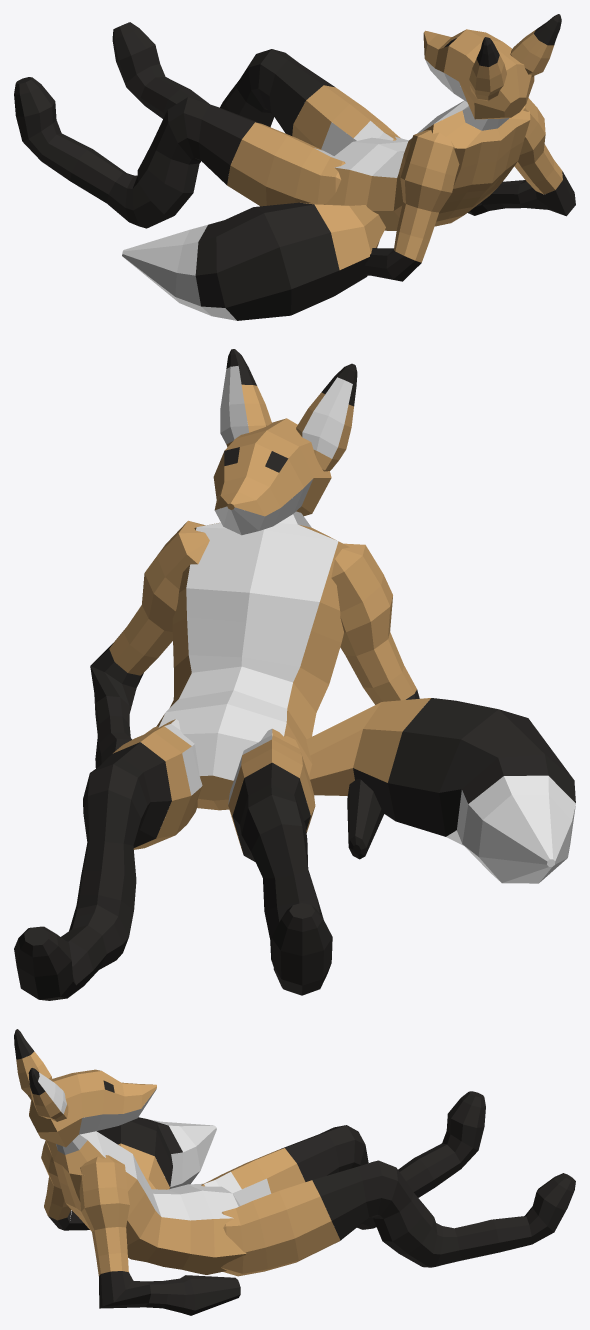
The model's file is furry.gltf.
3 renders of one model, top to bottom at view 1: azimuth 30°, elevation 25°; view 2: azimuth 150°, elevation 25°; view 3: azimuth 270°, elevation 25°, orthographic. The views are drawn at different scales.
Visible parts, largest first — view 1: Body; view 2: Body; view 3: Body.
Boxes of the visible parts, box(x1,y1,x2,y2) form: Body: box(14, 14, 575, 320); Body: box(14, 349, 575, 1000); Body: box(14, 1029, 575, 1315).
Bounding box in the file's own units: 0.8038 × 0.5623 × 1.07.
